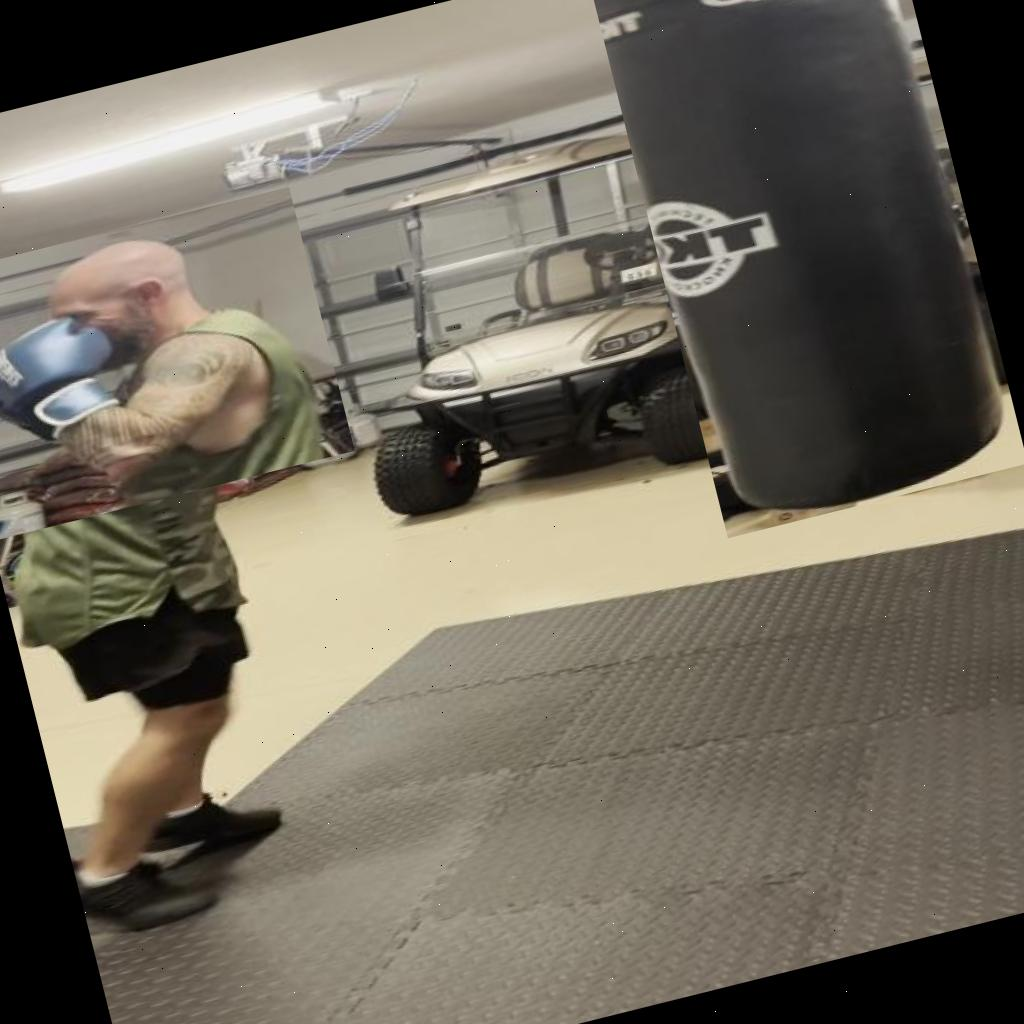bag: (585, 0, 1024, 537)
no punch: (0, 186, 354, 541)
